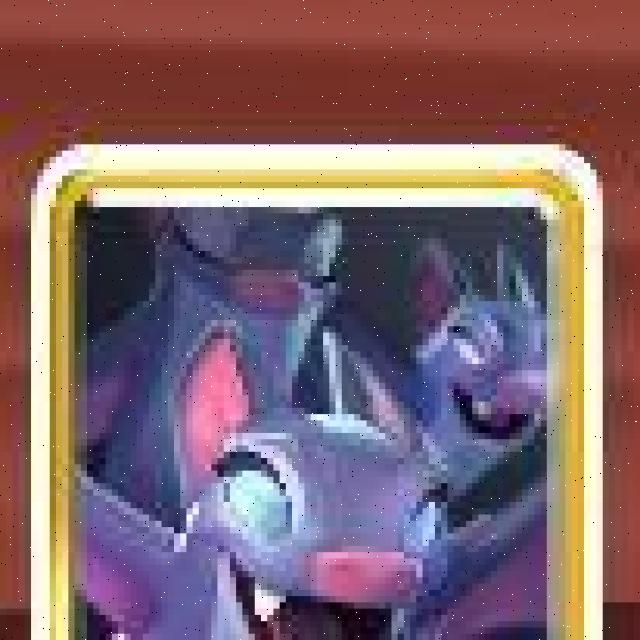Bats: (25, 143, 602, 640)
